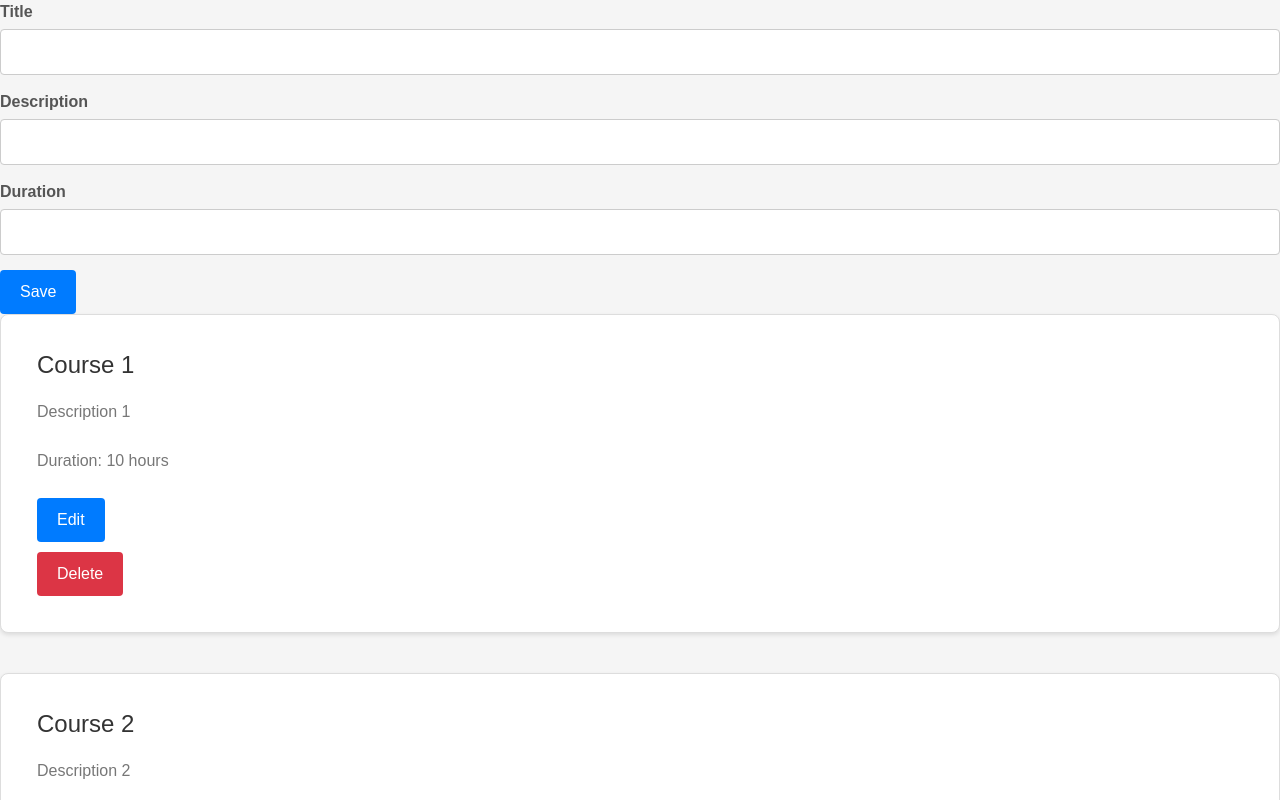
Test: can delete a course
Click the button "Delete": x=80, y=574 [37, 552, 123, 596]
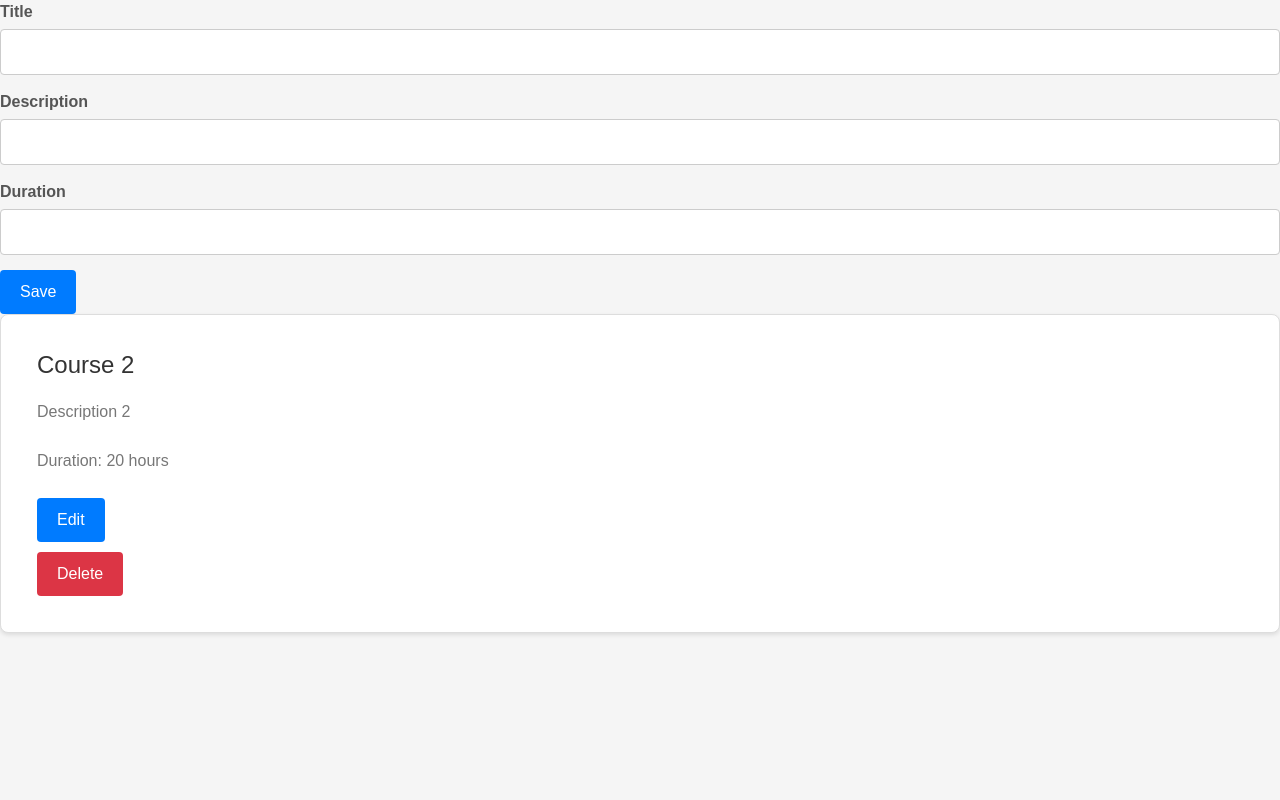
Check: the heading "Course 2" is shown, box [37, 351, 134, 378]
Check: the heading "Course 1" is gone
